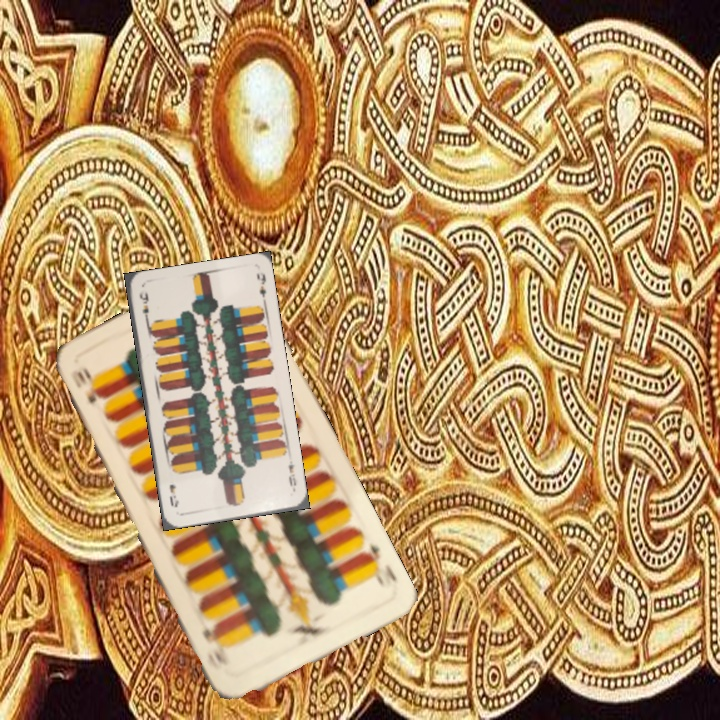E10: (357, 538, 399, 591), (67, 366, 100, 407)
E9: (135, 286, 152, 326), (284, 460, 299, 489)
